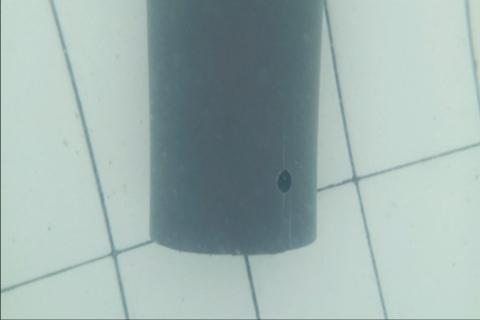kebocoran: (275, 167, 293, 195)
